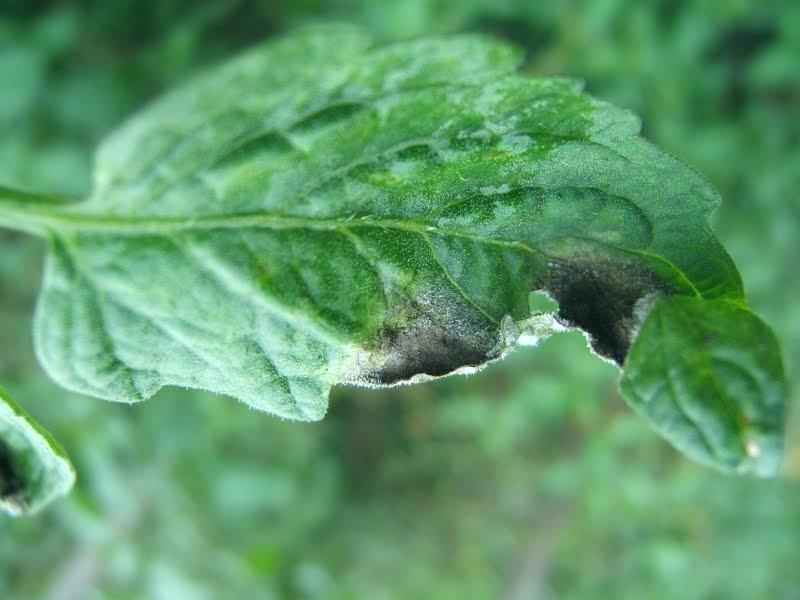Tomato leaf late blight: (31, 35, 787, 480)
